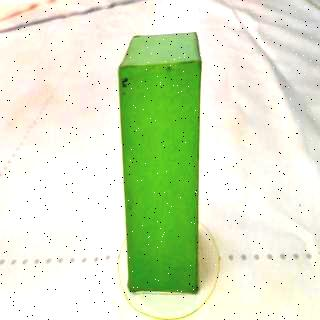greenbox: (119, 31, 202, 292)
